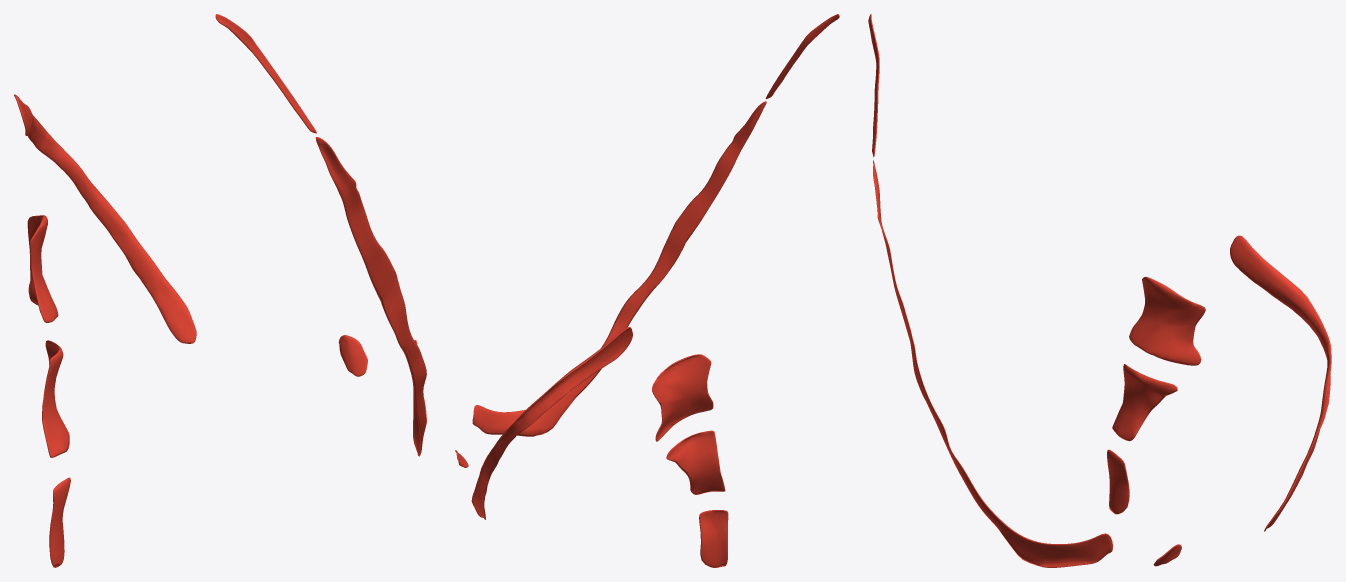
Rendered from Diaphragm-_Insertions.001_Generated_Mesh_From_X3D.354.glb.
3 views of the same model, side by side, from view 1: azimuth 30°, elevation 25°; view 2: azimuth 150°, elevation 25°; view 3: azimuth 270°, elevation 25° (orthographic). The views are drawn at different scales.
Visible parts, largest first — view 1: Diaphragm-_Insertions.001_Generated_Mesh_From_X3D.354; view 2: Diaphragm-_Insertions.001_Generated_Mesh_From_X3D.354; view 3: Diaphragm-_Insertions.001_Generated_Mesh_From_X3D.354.
Part boxes in pixels (x1,y1,x2,y2): Diaphragm-_Insertions.001_Generated_Mesh_From_X3D.354: (14,14,426,567); Diaphragm-_Insertions.001_Generated_Mesh_From_X3D.354: (455,14,839,567); Diaphragm-_Insertions.001_Generated_Mesh_From_X3D.354: (868,14,1331,567).
Bounding box in the file's own units: 0.1101 × 0.1947 × 0.1648.
